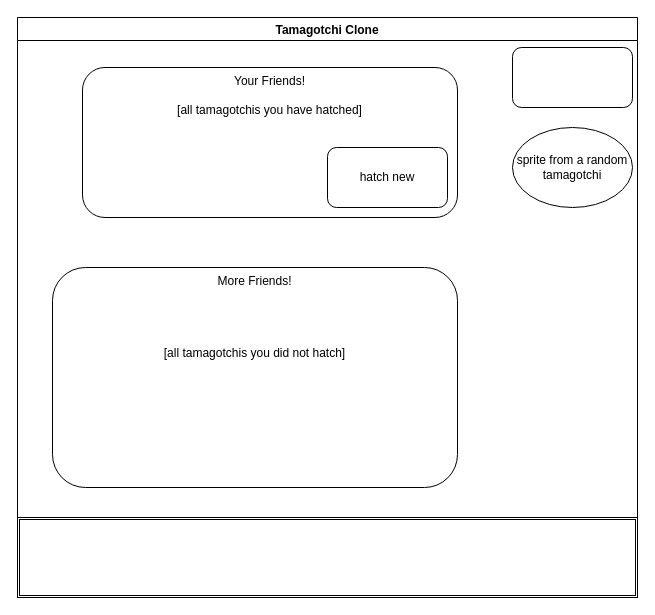
The diagram is 655 pixels wide and 615 high, and some of its shapes have lost their labels. Each missing label, with the centre of its shape:
Footer: Credits, links to socials + github: the point at 327,557
logout: the point at 572,77
